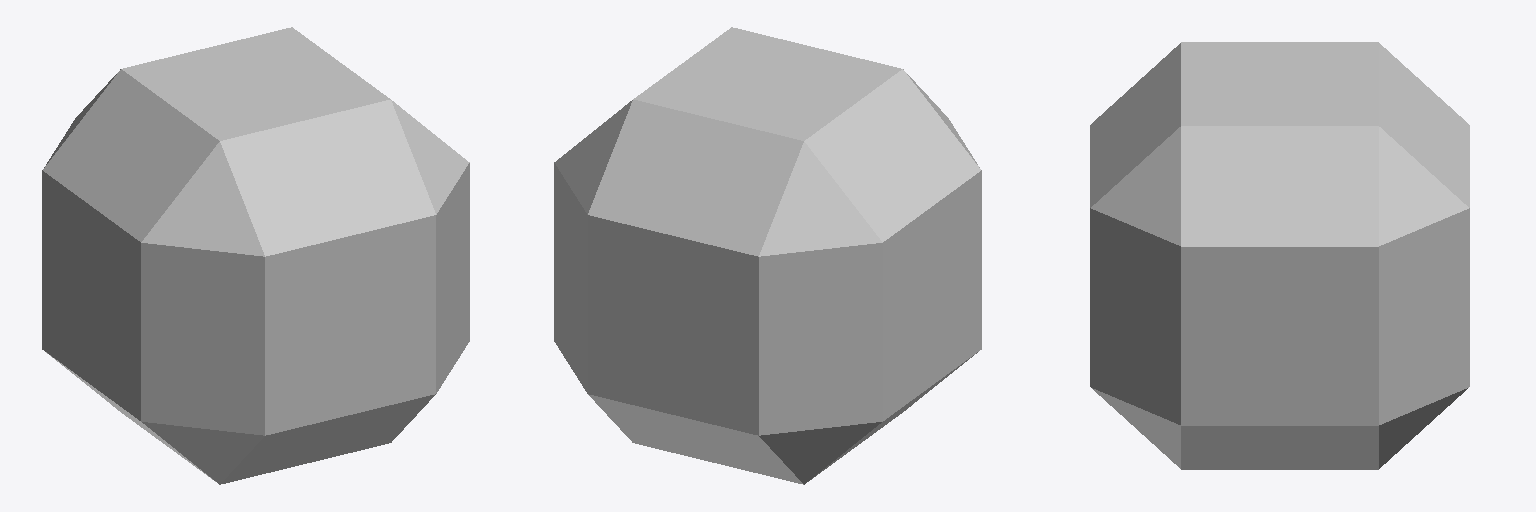
The model's file is cubeish.obj.
3 renders of one model, left to right at view 1: azimuth 30°, elevation 25°; view 2: azimuth 150°, elevation 25°; view 3: azimuth 270°, elevation 25°, orthographic.
Parts seen in each view (by area): view 1: Cube; view 2: Cube; view 3: Cube.
Boxes of the visible parts, box(x1,y1,x2,y2) form: Cube: box(42, 27, 469, 484); Cube: box(554, 27, 981, 484); Cube: box(1090, 42, 1469, 469).
Size of the model in its own units: 2 by 2 by 2.